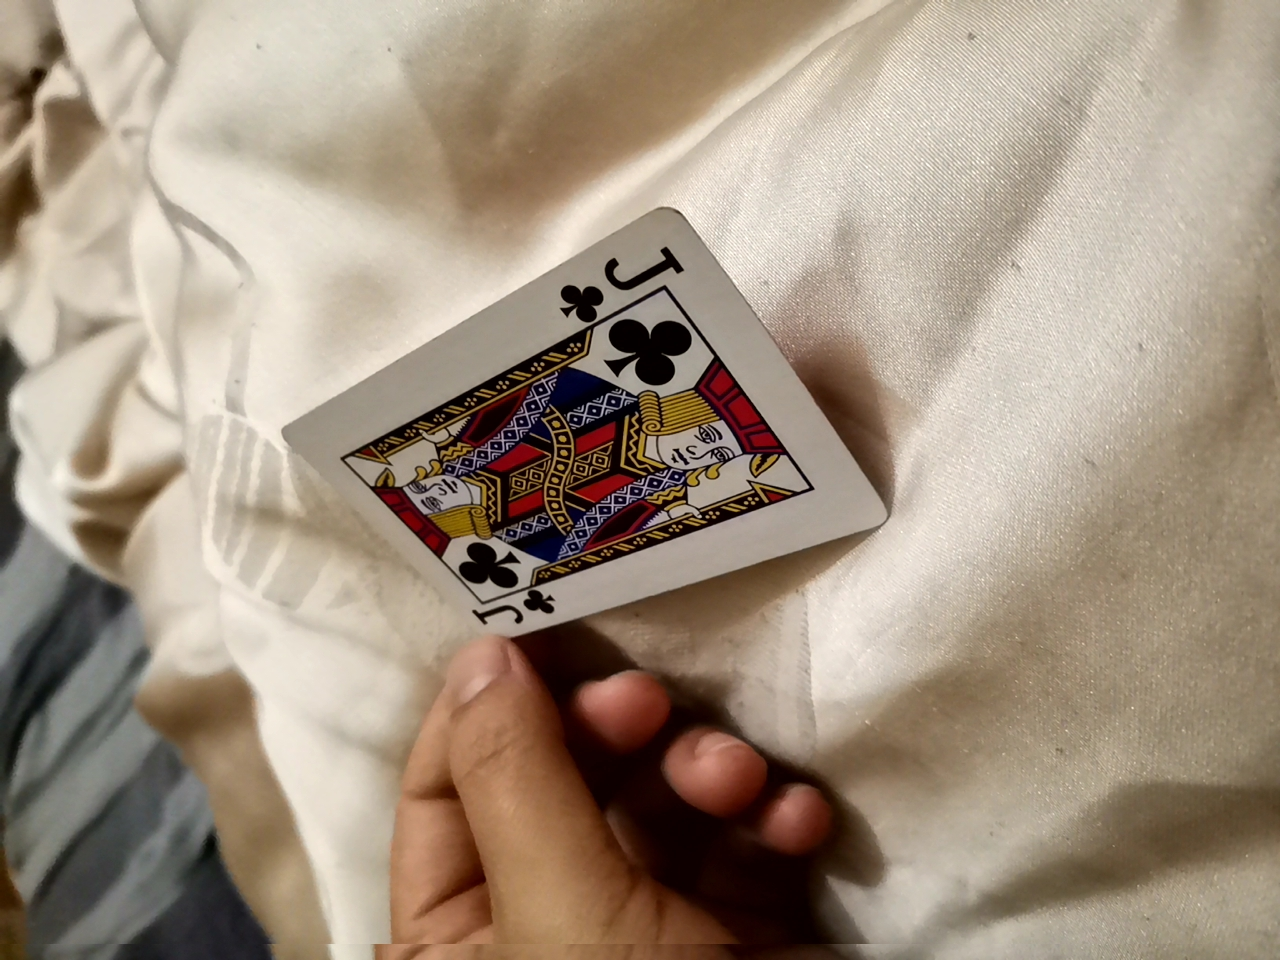mh j: (299, 187, 863, 696)
